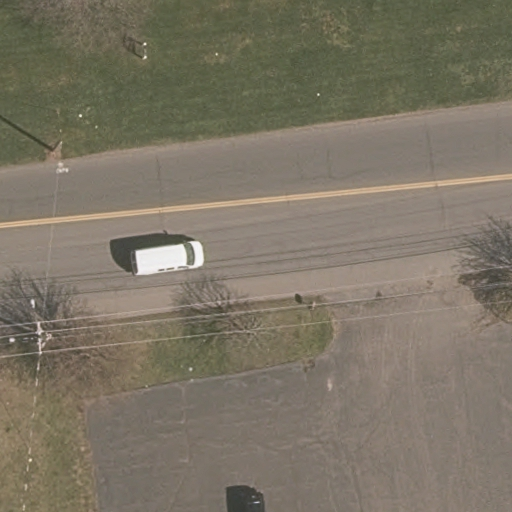DT: (6, 292, 65, 365), (47, 130, 75, 160)
